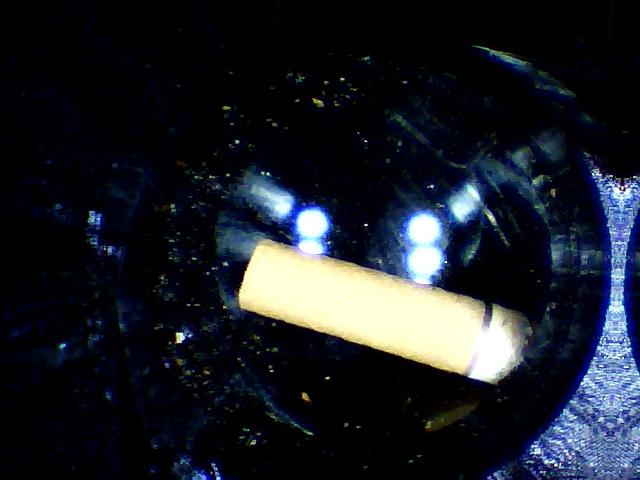megot: (229, 226, 546, 398)
